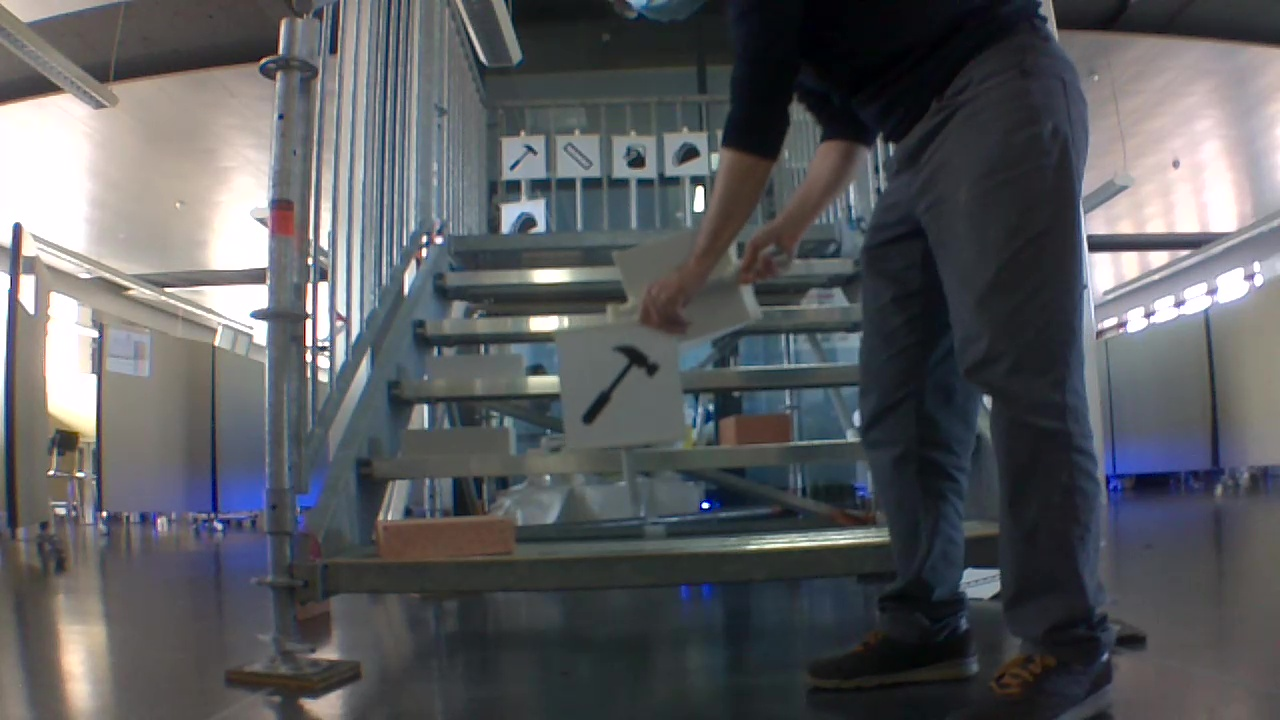brick: (377, 514, 515, 556), (398, 429, 513, 456), (427, 353, 528, 383), (725, 414, 797, 442)
bucket: (620, 143, 652, 172)
hammer: (580, 334, 662, 428), (508, 141, 540, 175)
ruler: (560, 141, 596, 172)
taco: (672, 142, 702, 167), (508, 211, 537, 234)
